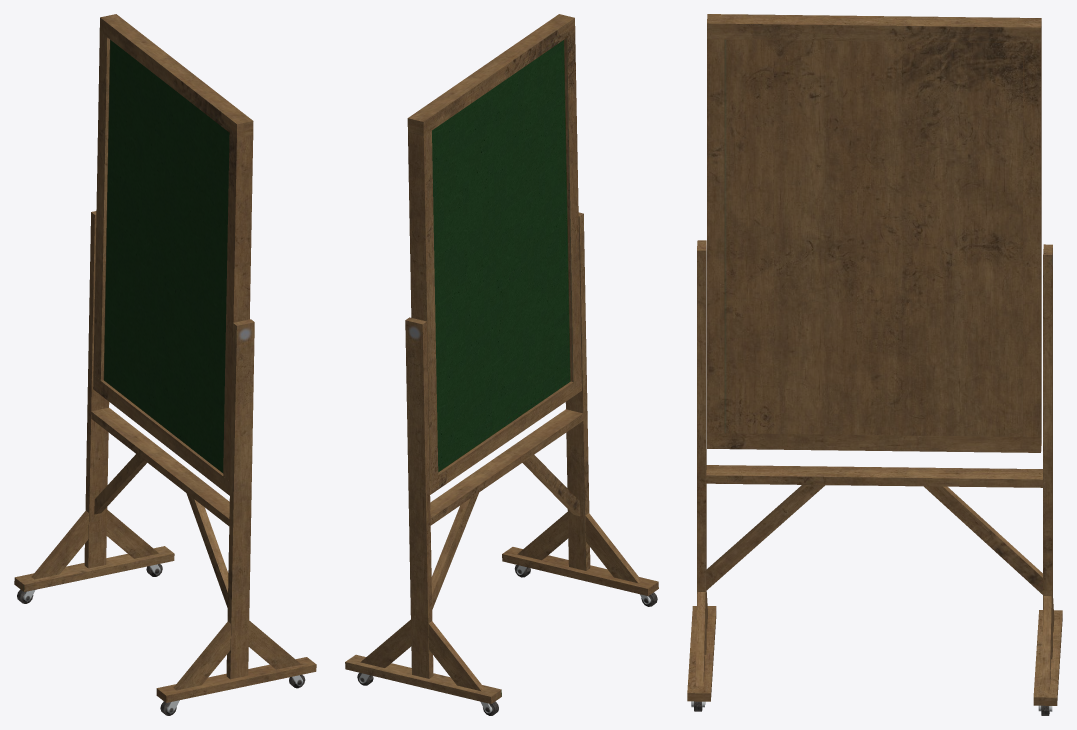
File: standing-board.glb
3 renders of one model, left to right at view 1: azimuth 30°, elevation 25°; view 2: azimuth 150°, elevation 25°; view 3: azimuth 270°, elevation 25°, orthographic. The views are drawn at different scales.
Visible parts, largest first — view 1: StandingBoard; view 2: StandingBoard; view 3: StandingBoard.
Part boxes in pixels (box(x1,y1,x2,y2)): StandingBoard: box(14, 14, 316, 715); StandingBoard: box(345, 14, 658, 715); StandingBoard: box(687, 14, 1062, 715).
Bounding box in the file's own units: 0.5834 × 2.04 × 1.04.
Materials: 1 (1 with a texture image).
